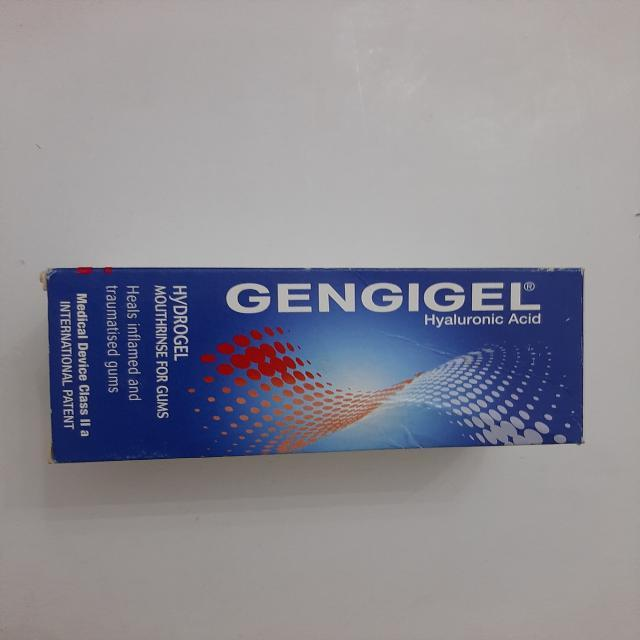Medicine Name: (213, 273, 551, 316)
